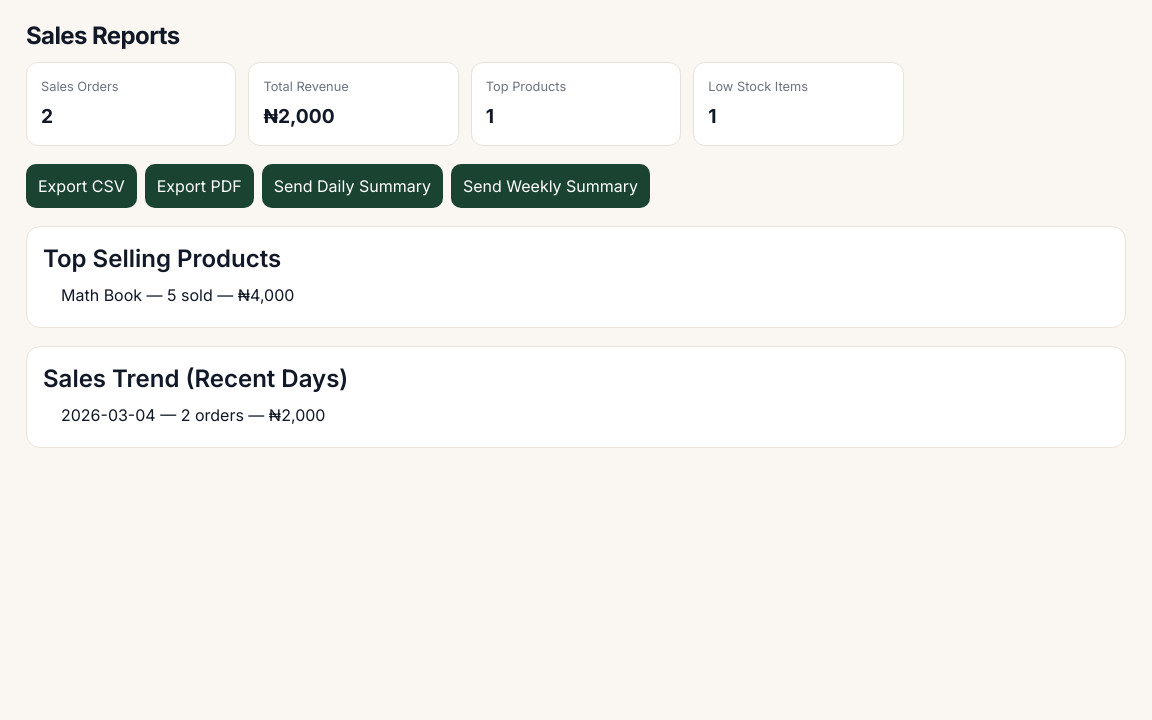
Test: AdminReports page › loads report data and sends summaries as admin
Expected: the heading "Sales Reports" is shown, [26,21,180,50]
Expected: the text "₦2,000" is shown, [263,104,335,128]
Click the button "Send Daily Summary" at (352, 186), box [262,164,443,208]
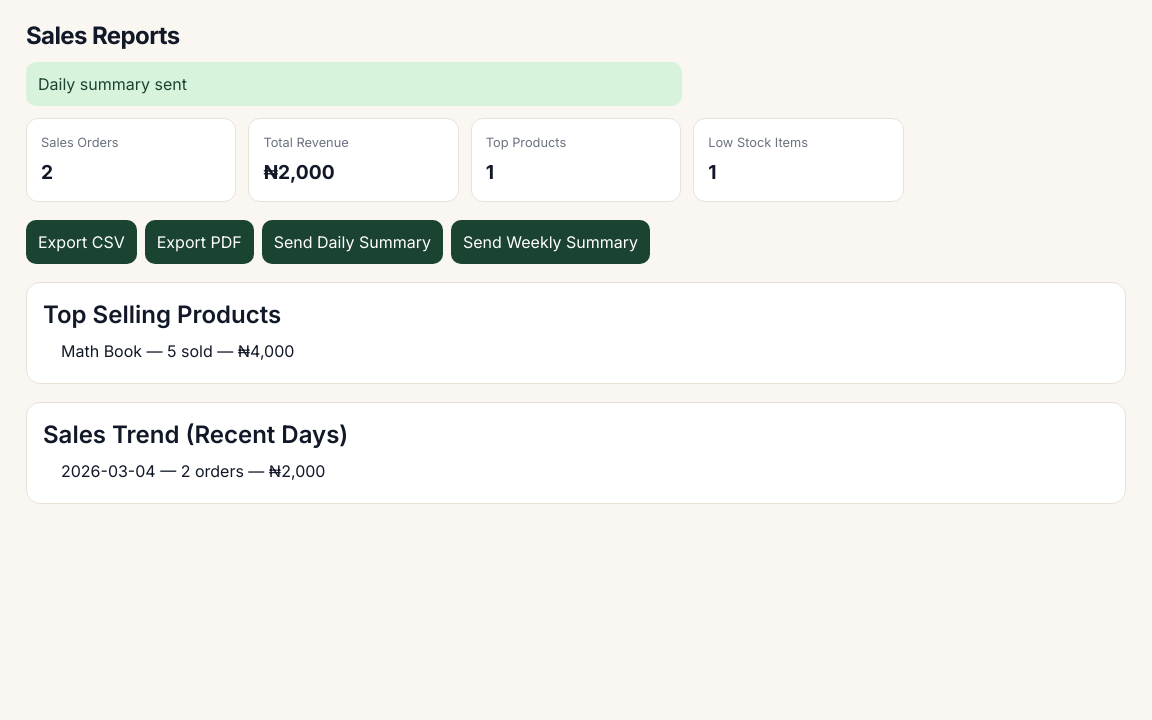
Result: the text "Daily summary sent" is shown at [26,62,682,106]
Click the button "Send Weekly Summary" at (550, 242), box [451,220,650,264]
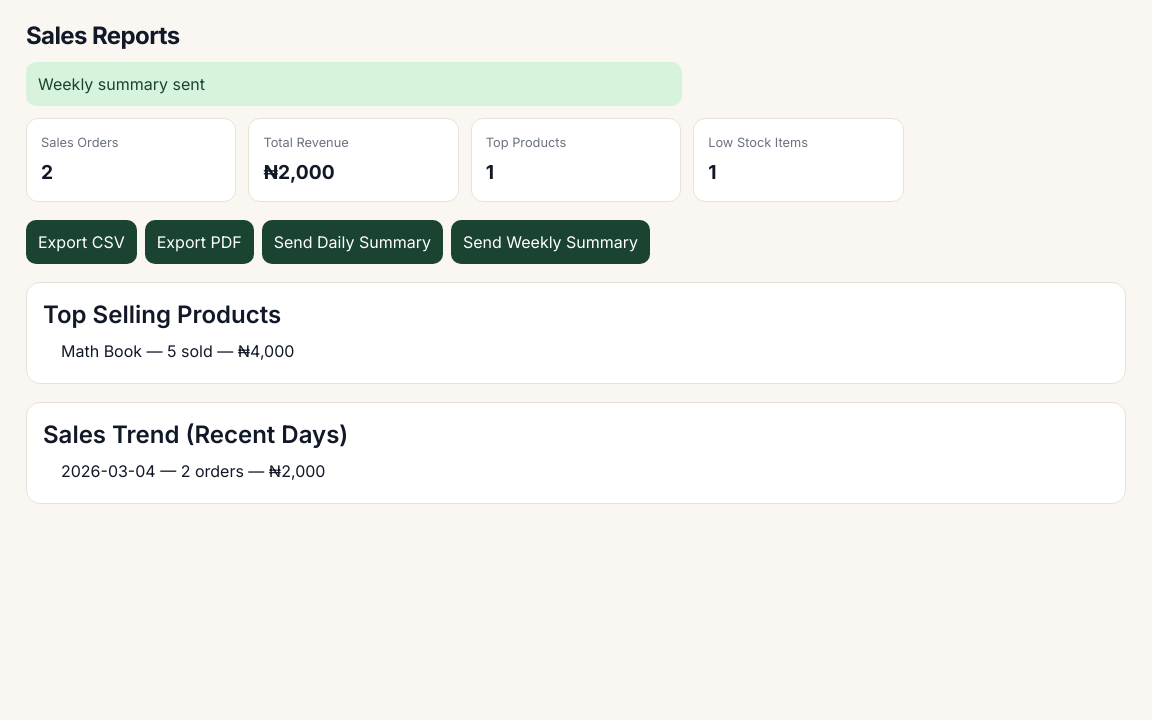
Result: the text "Weekly summary sent" is shown at [26,62,682,106]
